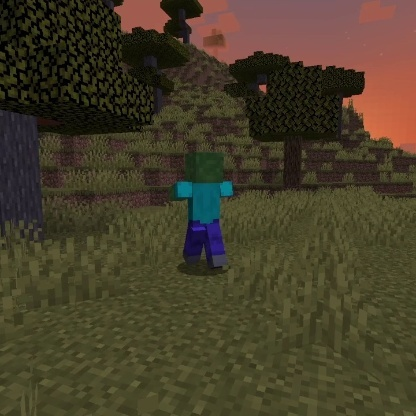zombie: (164, 150, 239, 273)
